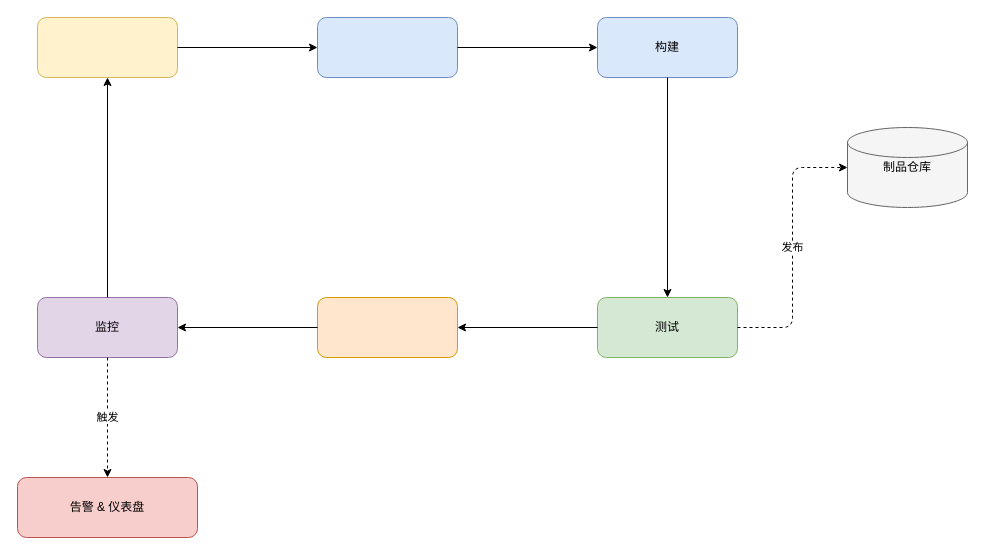
This 985x555 diagram has some shape labels left out. The centre of each missing label's shape, as x and y in pixels:
"编码" goes at (x=387, y=47).
"规划" goes at (x=107, y=47).
"部署" goes at (x=387, y=327).
